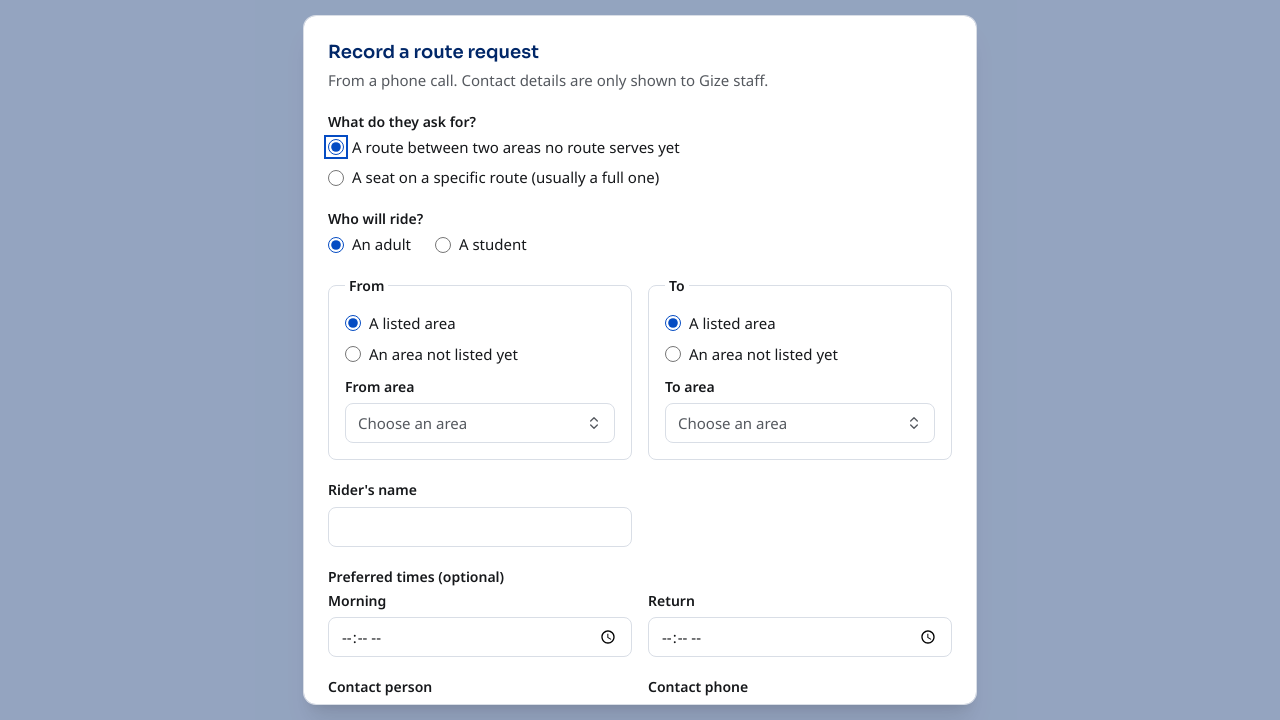
RouteRequestFormDialog: recording › records a seat on a running public route for an adult
Later steps or results of the test are not shown.
Click the radio button labelled "A seat on a specific route (usually a full one)" at (336, 178), box [328, 170, 344, 186]
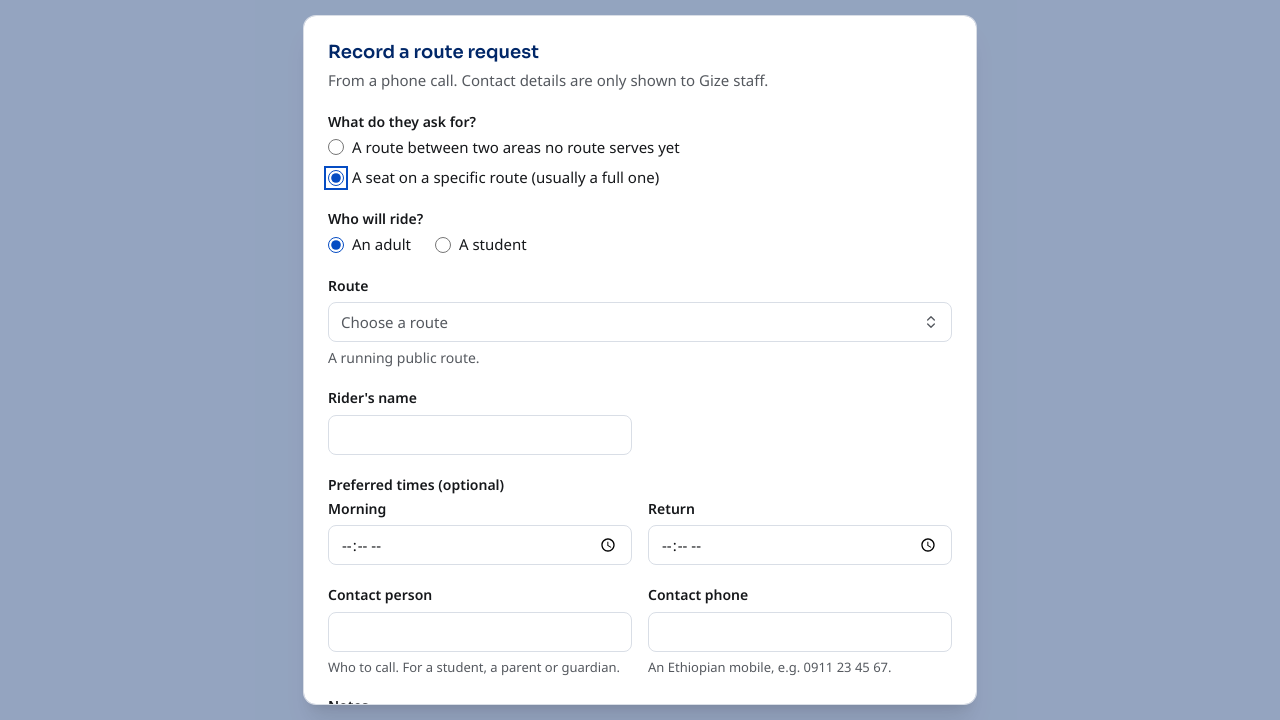
Check: the text "A running public route." is shown, box [328, 348, 480, 367]
